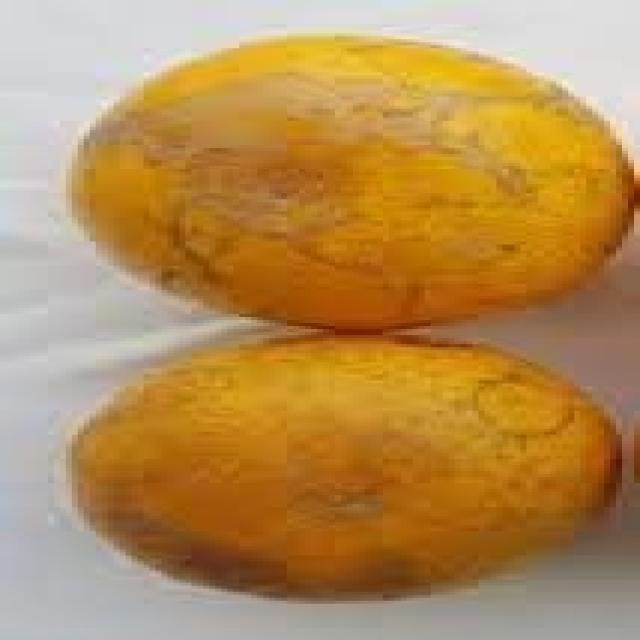overripe: (70, 31, 640, 330), (53, 330, 640, 611)
